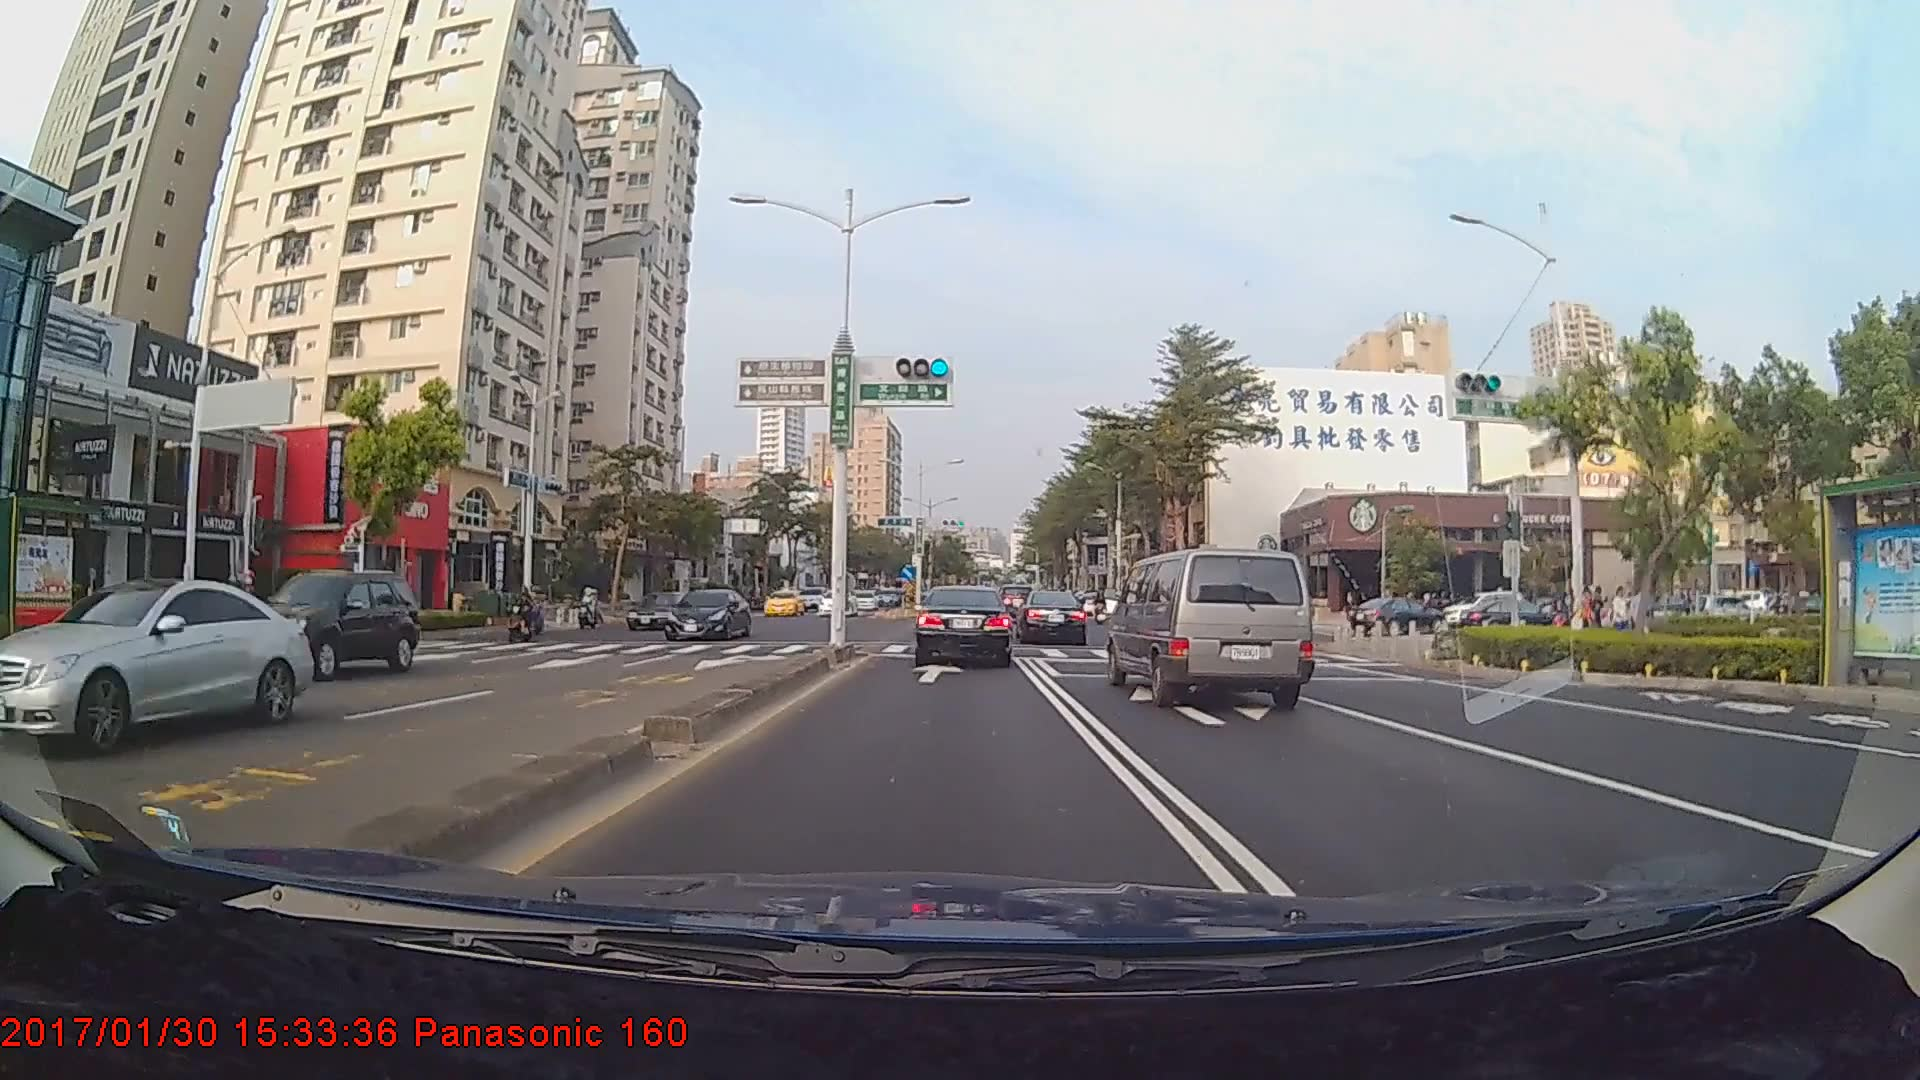pedestrian: (1633, 585, 1653, 648), (1611, 583, 1631, 643)
rider: (207, 563, 270, 644), (508, 581, 548, 648)
vehicle: (0, 577, 314, 759), (1107, 545, 1316, 708), (236, 568, 421, 678), (914, 585, 1013, 667), (663, 588, 752, 642), (1347, 596, 1445, 640), (1017, 591, 1087, 645), (623, 589, 698, 629), (815, 586, 858, 616), (761, 587, 805, 615), (849, 588, 878, 610)
